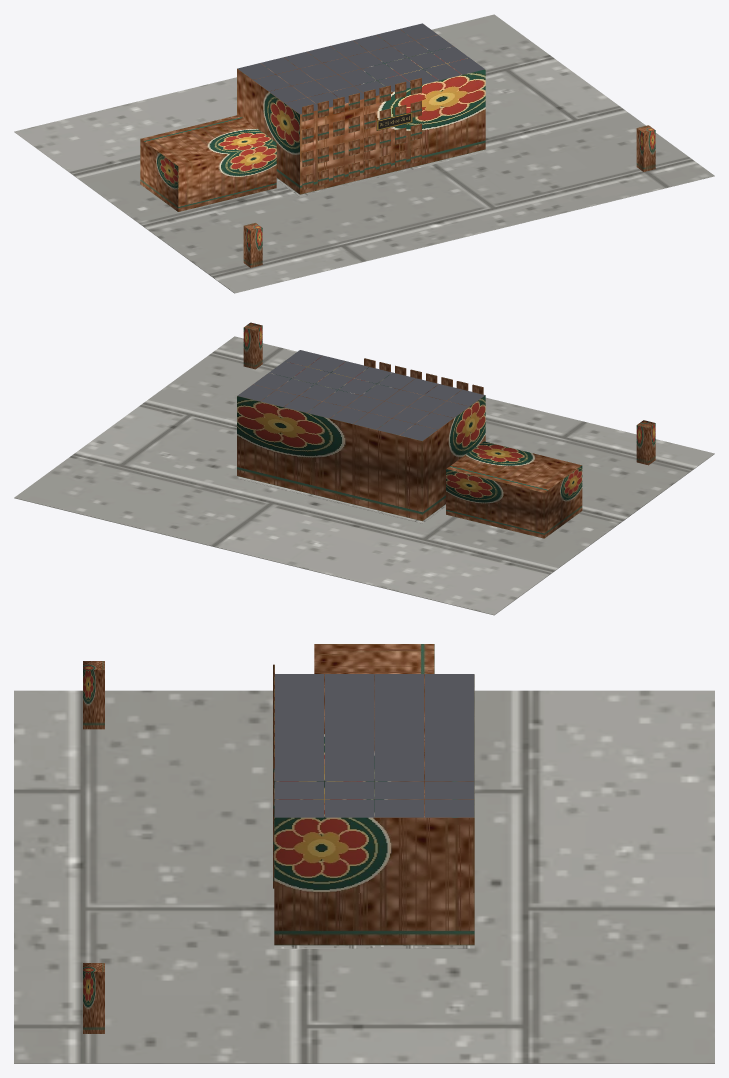
The picture shows the model from 3 angles, top to bottom: view 1: azimuth 30°, elevation 25°; view 2: azimuth 150°, elevation 25°; view 3: azimuth 270°, elevation 25°; orthographic projection. The views are drawn at different scales.
Parts seen in each view (by area): view 1: 11680_01_06378_046_01_L2__base, 11680_01_06378_046_02_L2__body, 11680_01_06378_046_03_L2__roof, 11680_01_06378_046_05_L2__openings, 11680_01_06378_046_06_L2__green; view 2: 11680_01_06378_046_01_L2__base, 11680_01_06378_046_02_L2__body, 11680_01_06378_046_03_L2__roof, 11680_01_06378_046_06_L2__green, 11680_01_06378_046_05_L2__openings; view 3: 11680_01_06378_046_01_L2__base, 11680_01_06378_046_02_L2__body, 11680_01_06378_046_03_L2__roof, 11680_01_06378_046_06_L2__green.
Part boxes in pixels (left/top/right/bottom): 11680_01_06378_046_01_L2__base: left=14, top=14, right=714, bottom=293; 11680_01_06378_046_02_L2__body: left=140, top=29, right=485, bottom=211; 11680_01_06378_046_03_L2__roof: left=237, top=23, right=484, bottom=114; 11680_01_06378_046_05_L2__openings: left=302, top=78, right=421, bottom=189; 11680_01_06378_046_06_L2__green: left=243, top=125, right=655, bottom=267; 11680_01_06378_046_01_L2__base: left=14, top=336, right=714, bottom=615; 11680_01_06378_046_02_L2__body: left=237, top=356, right=582, bottom=538; 11680_01_06378_046_03_L2__roof: left=237, top=350, right=484, bottom=440; 11680_01_06378_046_06_L2__green: left=243, top=322, right=655, bottom=465; 11680_01_06378_046_05_L2__openings: left=364, top=358, right=483, bottom=394; 11680_01_06378_046_01_L2__base: left=14, top=690, right=714, bottom=1063; 11680_01_06378_046_02_L2__body: left=274, top=644, right=474, bottom=945; 11680_01_06378_046_03_L2__roof: left=274, top=674, right=474, bottom=817; 11680_01_06378_046_06_L2__green: left=83, top=661, right=104, bottom=1033.
Bounding box in the file's own units: 88 × 15.74 × 70.
Materials: 5 (5 with a texture image).
